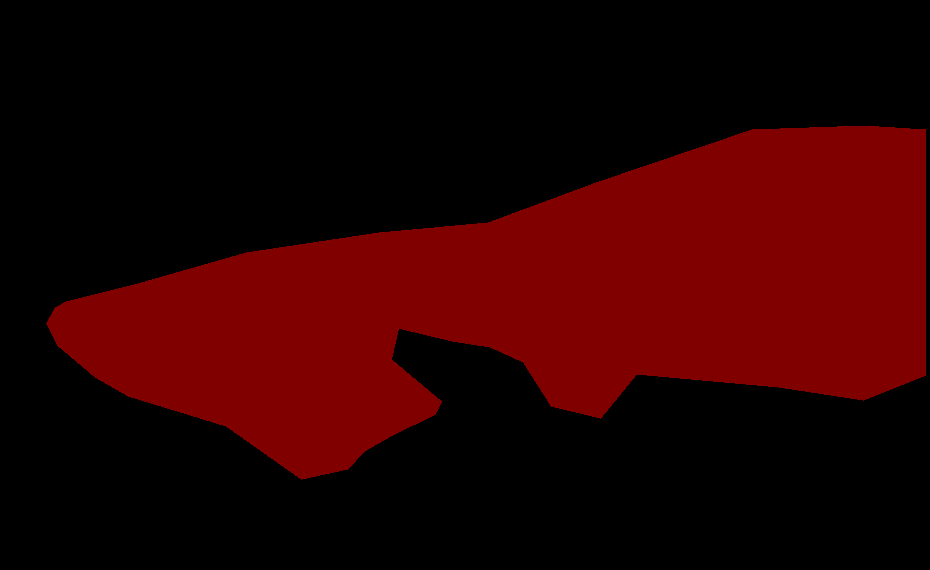fire: (46, 126, 925, 479)
